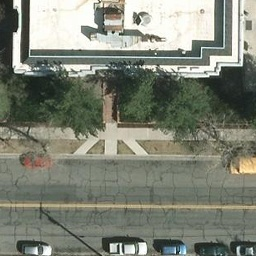car: (107, 239, 149, 256), (18, 150, 48, 168), (21, 238, 51, 256), (157, 241, 188, 256), (194, 244, 229, 255)
